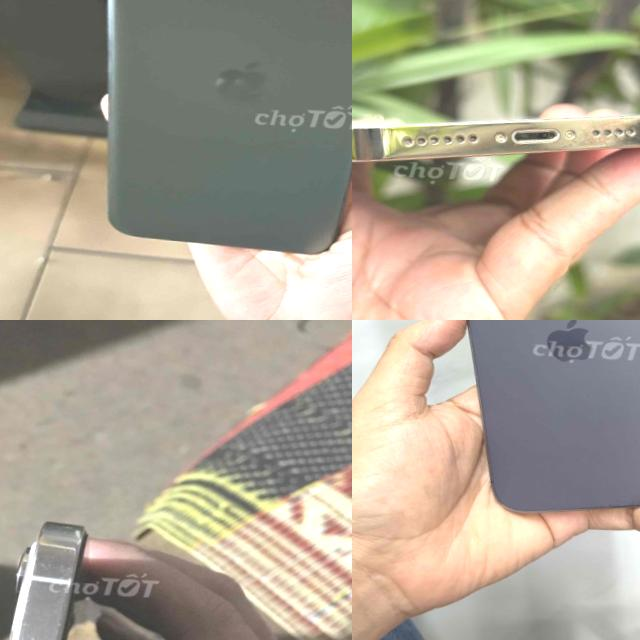gen_11: (75, 0, 352, 281)
gen_12_13: (0, 483, 135, 640)
gen_14: (434, 320, 640, 523), (352, 83, 640, 183)
